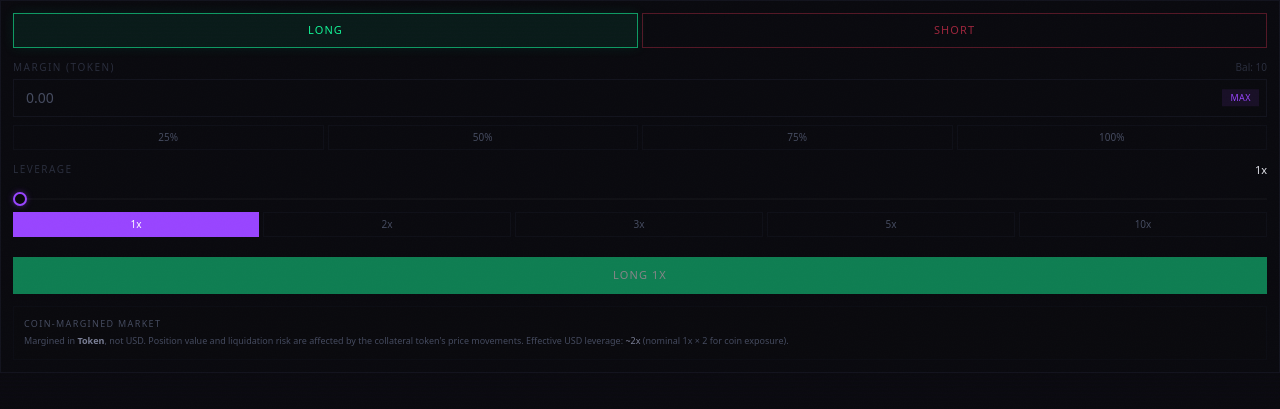
Test: TradeForm Component Tests › TRADE-007: Invalid amount rejected › should reject special characters except decimal point
The image size is (1280, 409).
Type "1@#$2" into the field with placeholder "0.00" at (640,98), box [13, 78, 1267, 116]
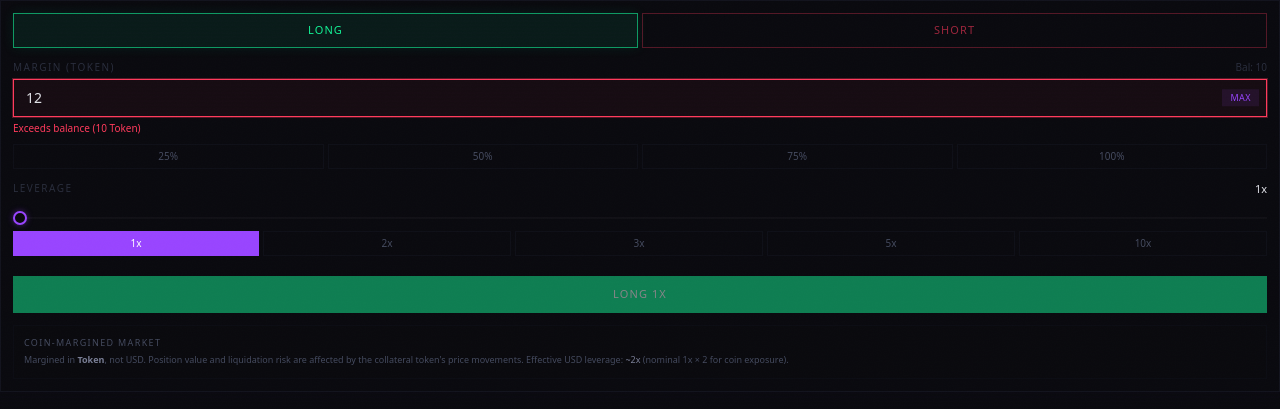
Check: the field with placeholder "0.00" holds "12", box [13, 78, 1267, 116]
